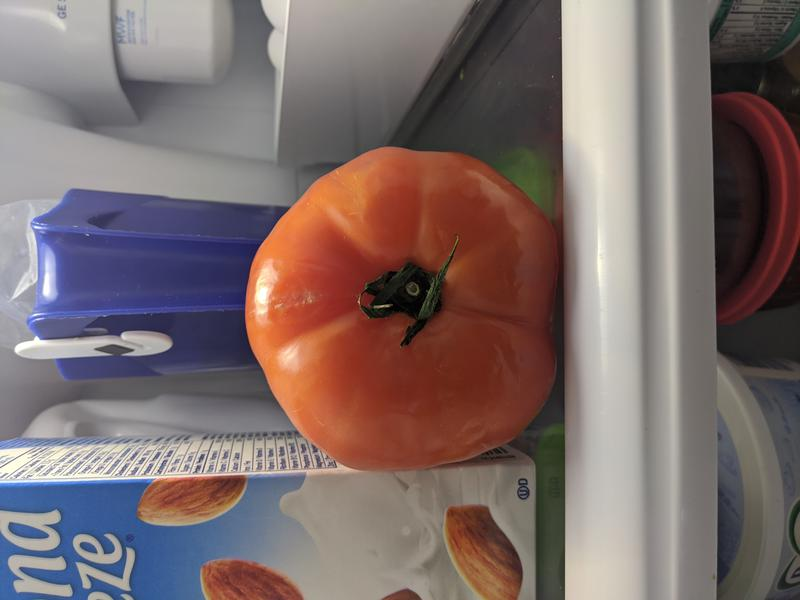tomato: (244, 144, 561, 472)
